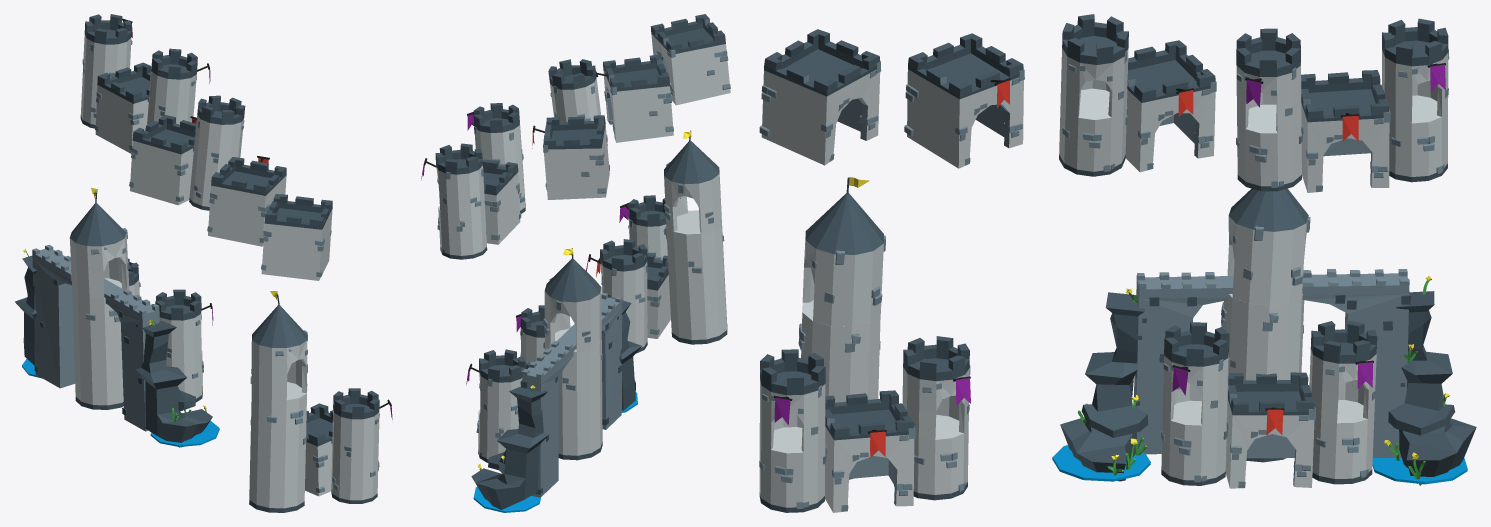
Rendered from Castle.glb.
3 renders of one model, left to right at view 1: azimuth 30°, elevation 25°; view 2: azimuth 150°, elevation 25°; view 3: azimuth 270°, elevation 25°, orthographic. The views are drawn at different scales.
Parts seen in each view (by area): view 1: group1802435954, group1103699375, group967268410, group492307050, group1114585461, group278236487, group1487171269, group1043724907, group1461229078, group282362229, group1165466189, group2012772390 (+2 smaller); view 2: group1802435954, group1103699375, group492307050, group1114585461, group967268410, group278236487, group1165466189, group1487171269, group1461229078, group200091897, group2012772390, group282362229 (+2 smaller); view 3: group1461229078, group1114585461, group492307050, group967268410, group1103699375, group1802435954, group278236487, group1487171269, group2012772390, group1165466189, group282362229, group1043724907 (+3 smaller).
Part boxes in pixels (left/top/right/bottom): group1802435954: left=249, top=304, right=307, bottom=512; group1103699375: left=69, top=202, right=129, bottom=409; group967268410: left=32, top=244, right=159, bottom=431; group492307050: left=129, top=95, right=245, bottom=210; group1114585461: left=305, top=384, right=379, bottom=503; group278236487: left=261, top=194, right=332, bottom=280; group1487171269: left=207, top=157, right=286, bottom=246; group1043724907: left=136, top=321, right=212, bottom=447; group1461229078: left=128, top=258, right=203, bottom=402; group282362229: left=95, top=62, right=151, bottom=153; group1165466189: left=80, top=14, right=132, bottom=128; group2012772390: left=147, top=48, right=197, bottom=124; group1802435954: left=663, top=140, right=727, bottom=344; group1103699375: left=543, top=258, right=602, bottom=460; group492307050: left=532, top=59, right=609, bottom=199; group1114585461: left=596, top=195, right=670, bottom=353; group967268410: left=520, top=293, right=622, bottom=497; group278236487: left=650, top=14, right=730, bottom=105; group1165466189: left=435, top=143, right=487, bottom=259; group1487171269: left=603, top=54, right=673, bottom=142; group1461229078: left=476, top=305, right=544, bottom=462; group200091897: left=471, top=386, right=549, bottom=509; group2012772390: left=473, top=103, right=525, bottom=213; group282362229: left=482, top=159, right=521, bottom=244; group1461229078: left=1161, top=320, right=1377, bottom=488; group1114585461: left=759, top=336, right=970, bottom=512; group492307050: left=1059, top=14, right=1216, bottom=176; group967268410: left=1134, top=269, right=1410, bottom=457; group1103699375: left=1221, top=188, right=1310, bottom=462; group1802435954: left=798, top=193, right=885, bottom=479; group278236487: left=759, top=29, right=881, bottom=165; group1487171269: left=904, top=33, right=1024, bottom=168; group2012772390: left=1236, top=28, right=1303, bottom=191; group1165466189: left=1382, top=18, right=1449, bottom=182; group282362229: left=1301, top=70, right=1390, bottom=192; group1043724907: left=1060, top=292, right=1147, bottom=481.
Size of the model in its own units: 2.03 by 4.45 by 6.04.
